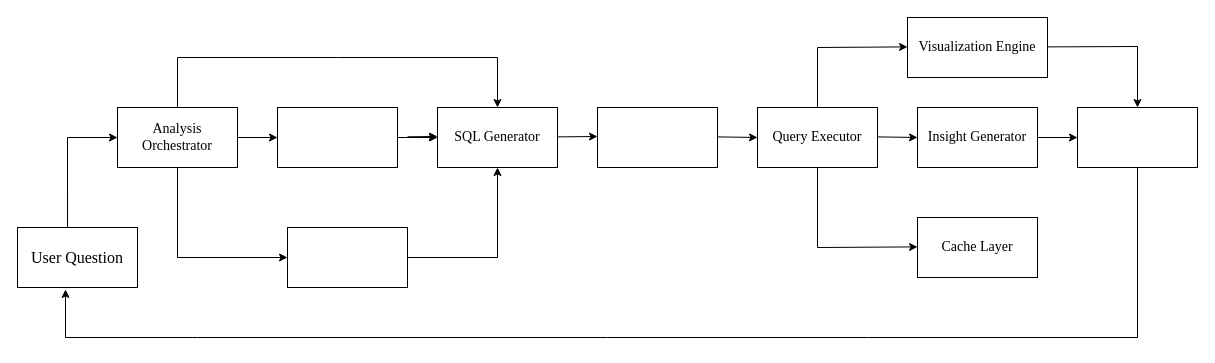
The diagram is 1215 pixels wide and 363 high, and some of its shapes have lost their labels. The shapes that lost their labels are listed below. From the top down, each one's centre as x and y in pixels, then its label:
point 337,137: Schema Loader
point 657,137: SQL Validation Layer
point 1137,137: Dashboard UI
point 347,257: Schema Retrieval
